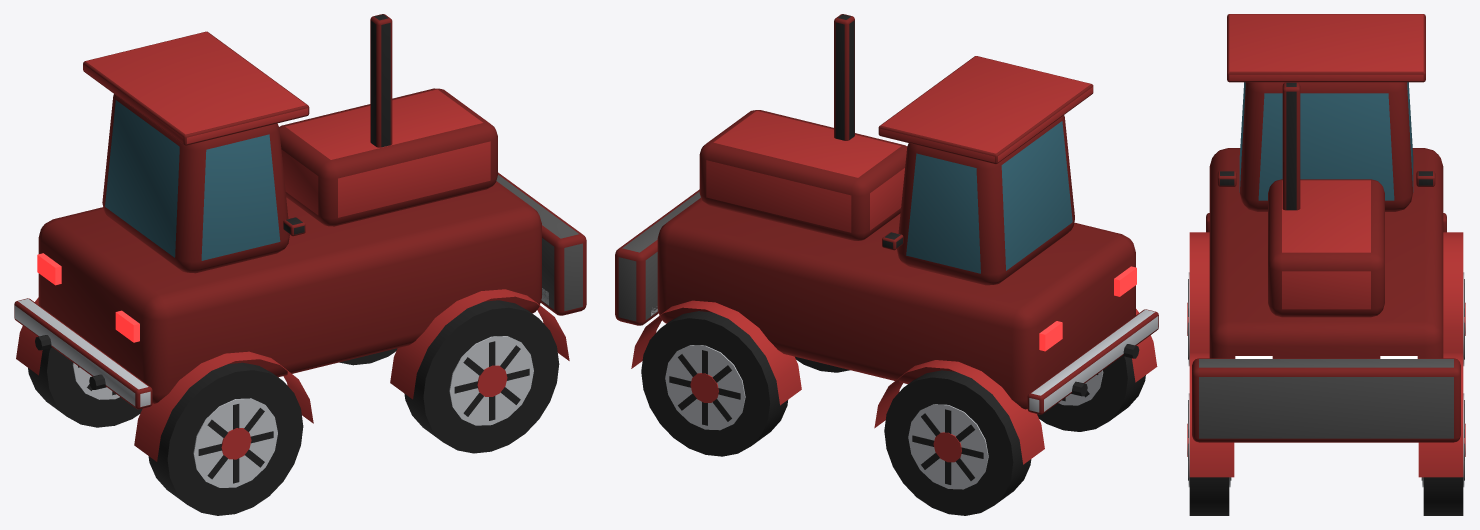
File: iron-prairie.glb
3 views of the same model, side by side, from view 1: azimuth 30°, elevation 25°; view 2: azimuth 150°, elevation 25°; view 3: azimuth 270°, elevation 25° (orthographic). The views are drawn at different scales.
Parts seen in each view (by area): view 1: body, wheel_FR, wheel_RR, wheel_RL; view 2: body, wheel_FL, wheel_RL, wheel_RR; view 3: body, wheel_FL, wheel_FR.
Boxes of the visible parts, x1,y1,x2,y2 form: body: (14,14,586,461); wheel_FR: (404,300,559,453); wheel_RR: (148,362,303,515); wheel_RL: (28,347,142,427); body: (615,14,1158,464); wheel_FL: (641,311,787,456); wheel_RL: (884,370,1031,515); wheel_RR: (1037,356,1145,431); body: (1189,14,1463,477); wheel_FL: (1421,393,1465,515); wheel_FR: (1187,393,1231,515).
Size of the model in its own units: 4.35 by 3.75 by 2.38.
